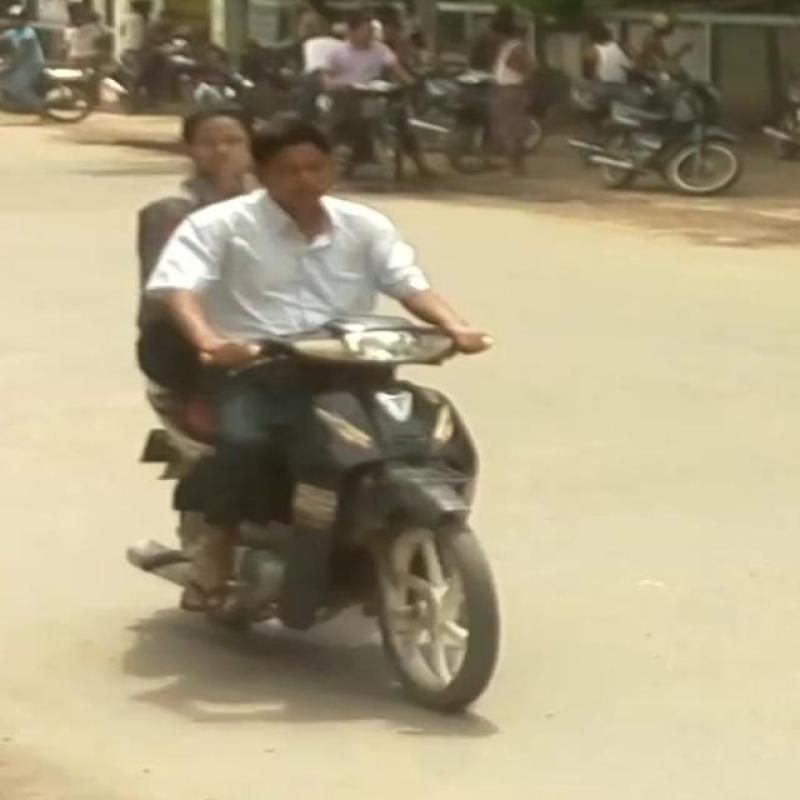nohelmet: (247, 117, 357, 208), (189, 80, 243, 192)
